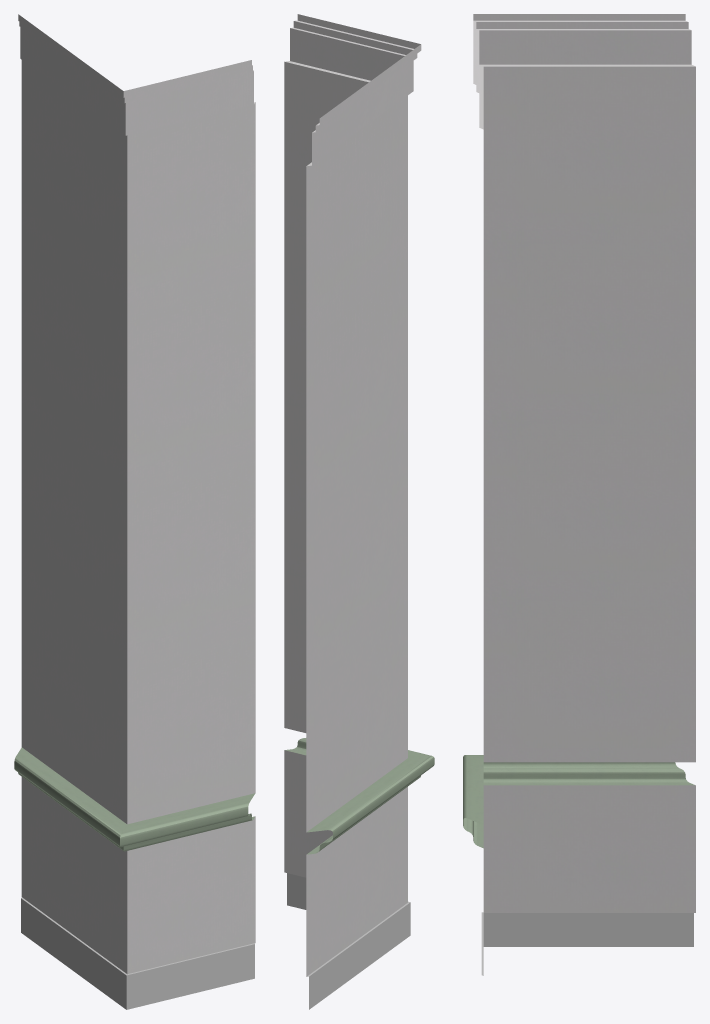
File: SM_Wall_White_11.fbx
3 renders of one model, left to right at view 1: azimuth 30°, elevation 25°; view 2: azimuth 150°, elevation 25°; view 3: azimuth 270°, elevation 25°, orthographic. The views are drawn at different scales.
Parts seen in each view (by area): view 1: SM_Wall_White_11; view 2: SM_Wall_White_11; view 3: SM_Wall_White_11.
Part boxes in pixels (x1,y1,x2,y2): SM_Wall_White_11: (14, 14, 255, 1009); SM_Wall_White_11: (284, 14, 434, 1009); SM_Wall_White_11: (463, 14, 695, 975).
Size of the model in its own units: 82.9 by 114 by 501.
